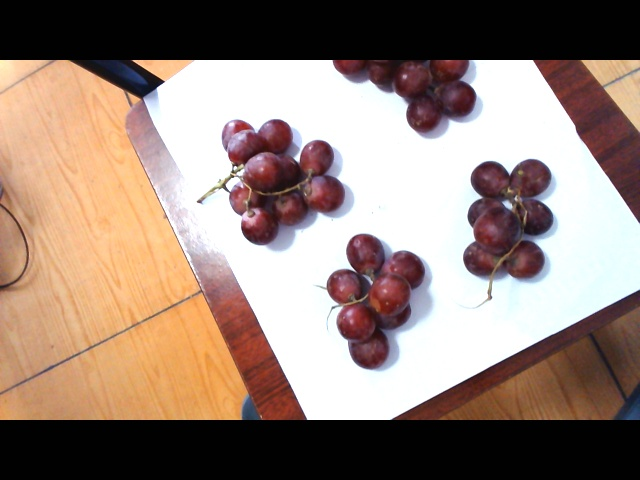grape: (199, 110, 348, 243), (312, 229, 427, 374), (467, 153, 569, 292), (330, 58, 479, 125)
